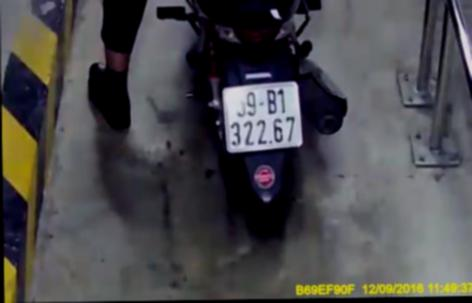License_Plate: (214, 80, 313, 152)
